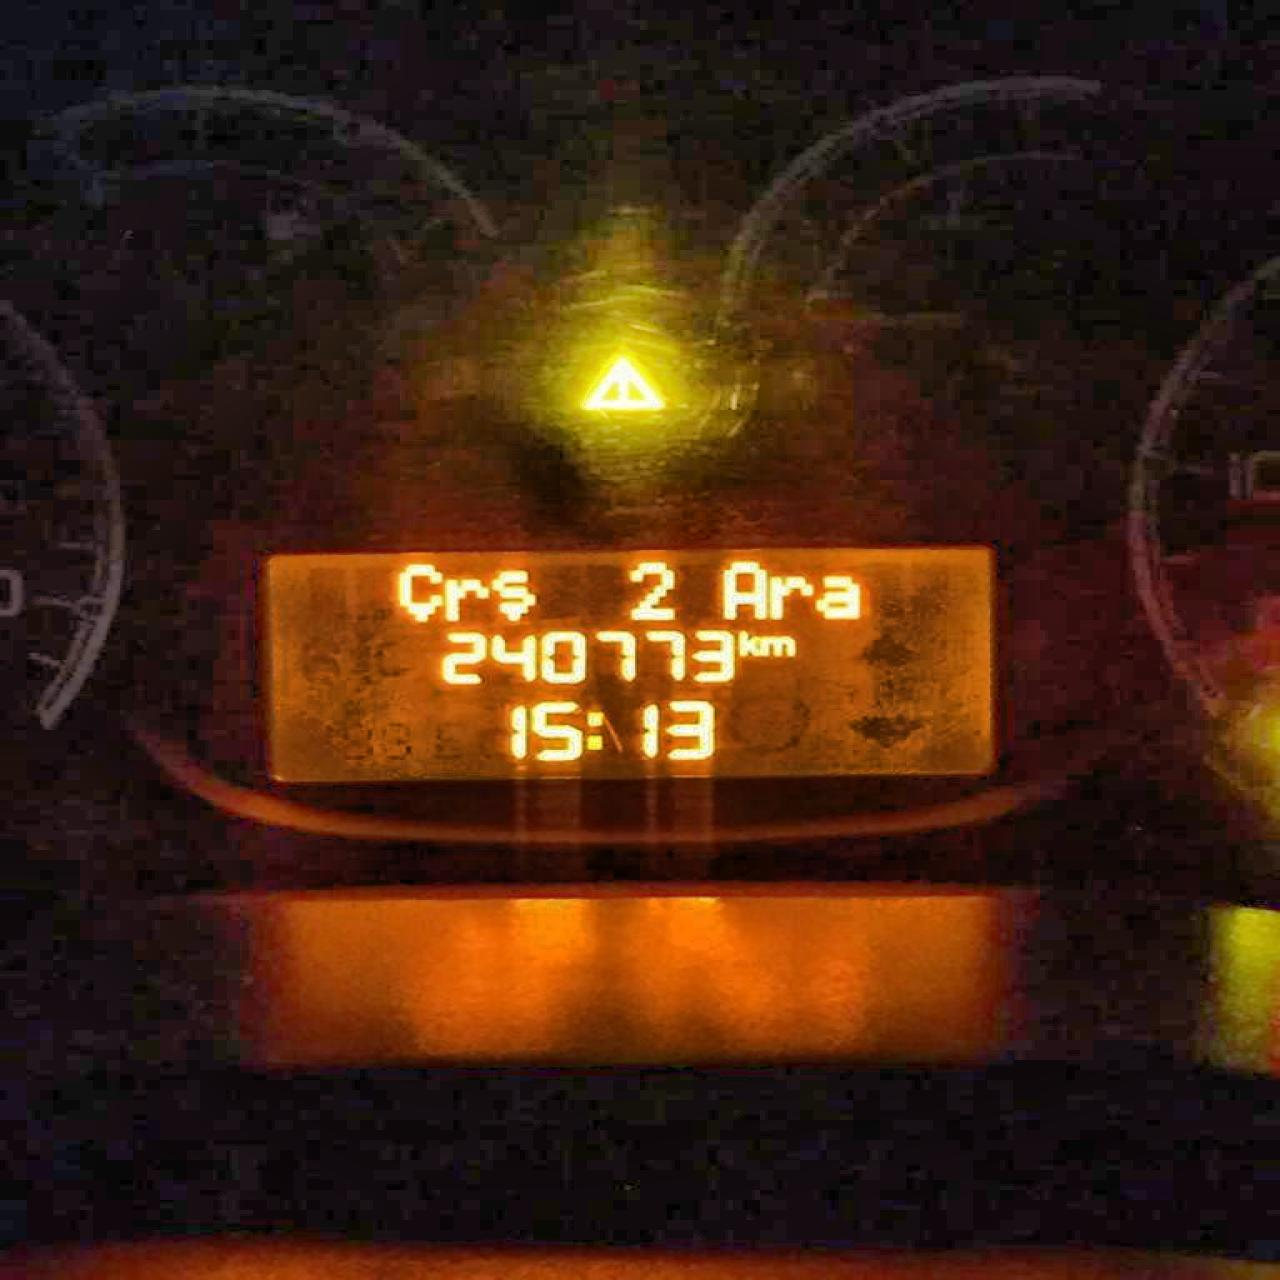0: (538, 628, 587, 683)
1: (506, 701, 525, 763), (640, 700, 659, 760)
2: (628, 560, 675, 621), (440, 629, 483, 685)
3: (665, 697, 713, 761), (689, 626, 734, 681)
4: (489, 631, 537, 680)
5: (530, 697, 581, 762)
7: (595, 627, 640, 681), (641, 627, 686, 679)
X: (722, 558, 767, 619), (396, 561, 438, 621), (491, 567, 537, 621), (767, 572, 813, 620), (813, 572, 859, 619), (443, 576, 486, 621), (585, 707, 607, 753), (760, 632, 795, 658), (738, 627, 758, 658)
odometer: (248, 538, 1016, 797)
